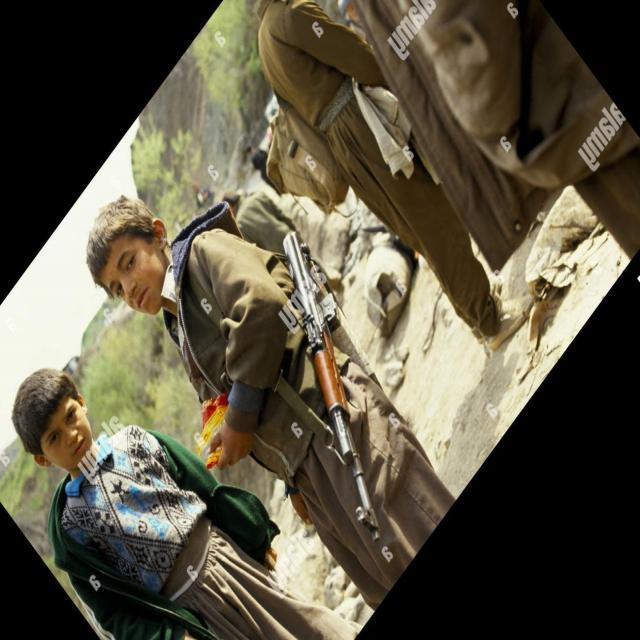weapon: (281, 228, 381, 547)
